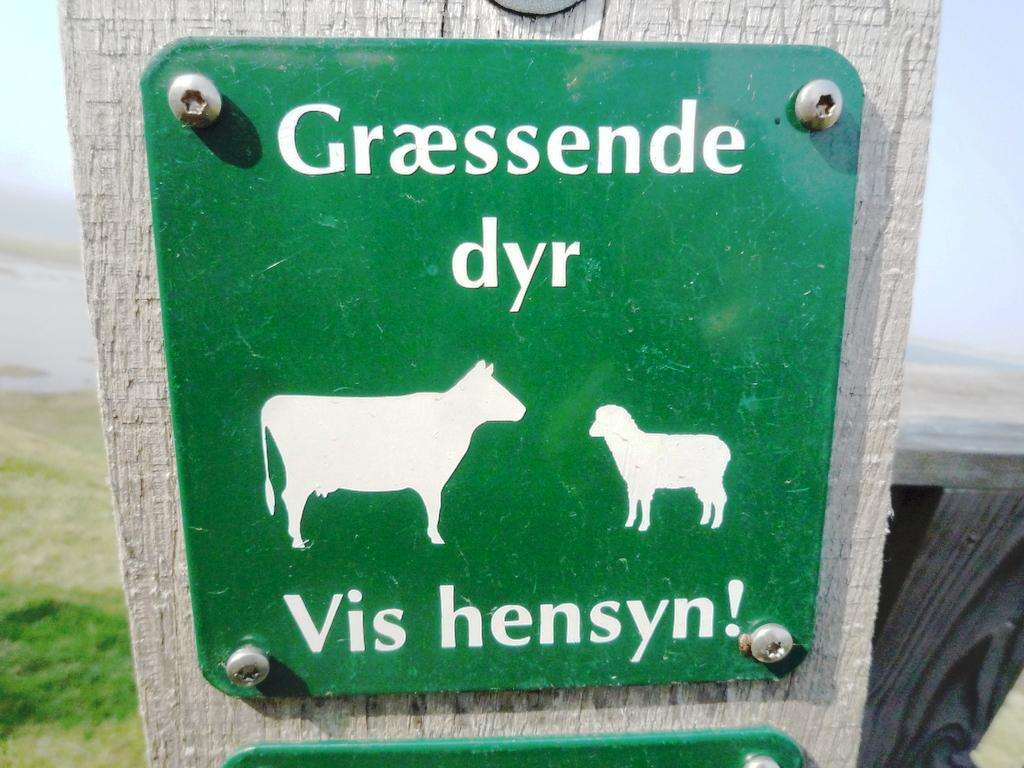Sheep: (588, 404, 735, 534)
